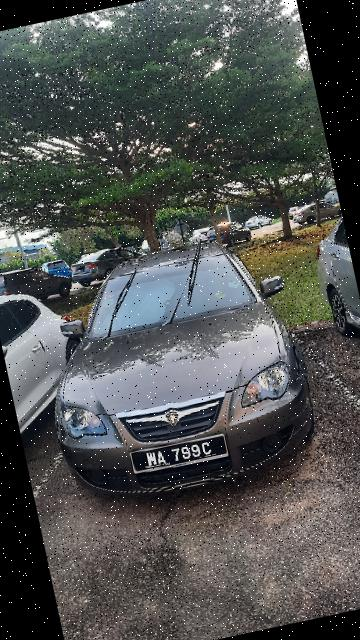License_Plate: (123, 424, 237, 486)
car: (21, 221, 333, 519)
